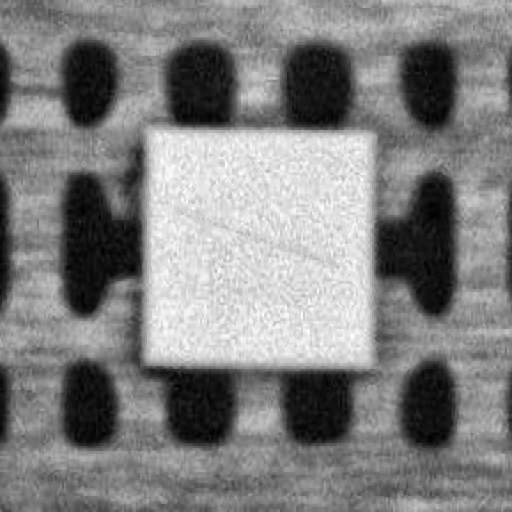DIE_CRACK: (260, 138, 504, 176)
